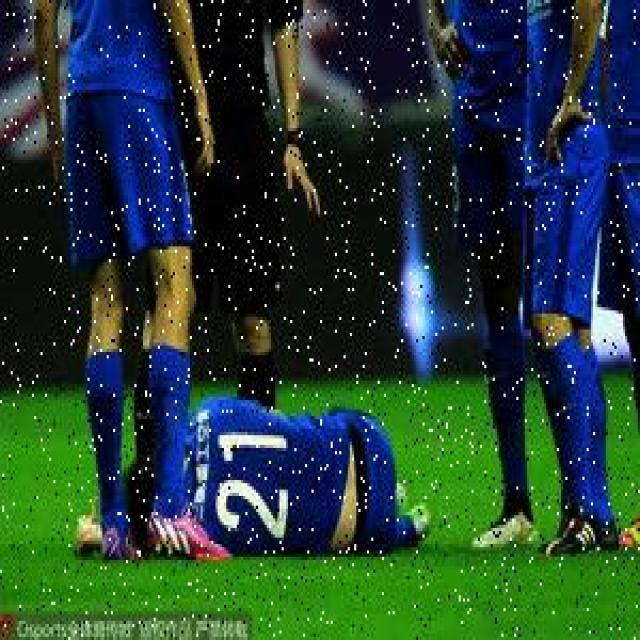fall: (130, 403, 429, 547)
